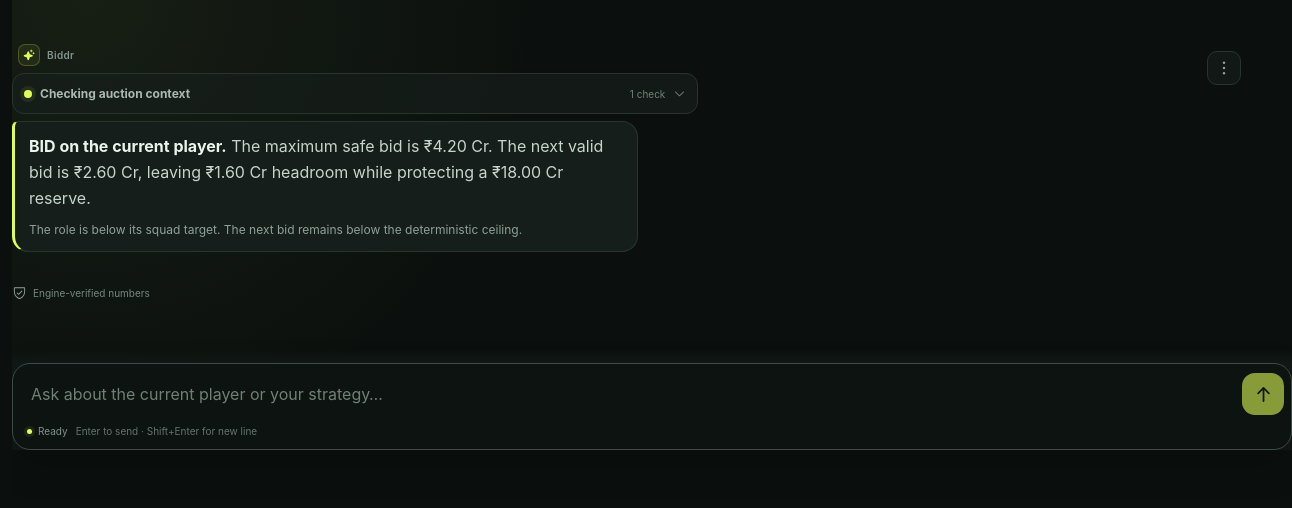
Test case: Copilot chat › collapses routine tool progress and keeps recommendations visible
Step 1. Click the text "Checking auction context" → coordinates (115, 94), box [40,86,190,101]
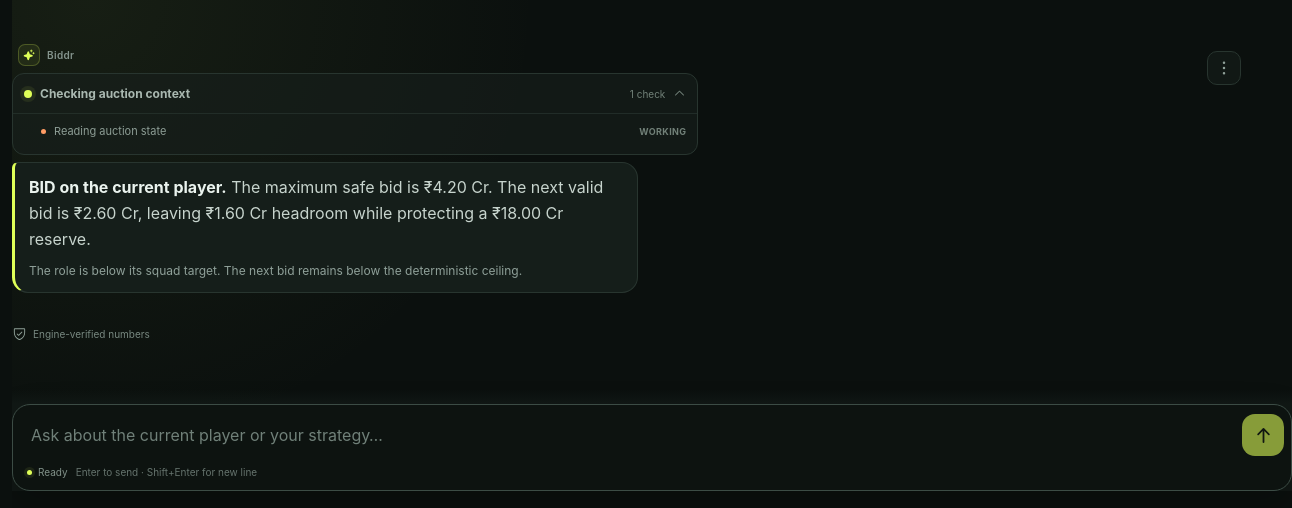
Expected: the number of elements named "BID bid recommendation" is 1, [12,162,638,293]
Result: the list item with aria-label "Reading auction state: Working" is shown at [41,124,686,138]
